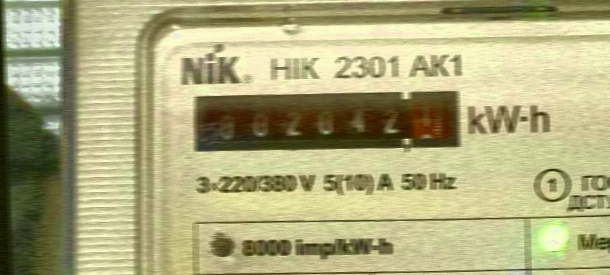0: (217, 110, 236, 141), (251, 108, 269, 140), (316, 106, 335, 136)
1: (418, 98, 433, 129)
2: (284, 108, 303, 137), (382, 105, 400, 134)
4: (349, 103, 368, 135)
screen: (189, 83, 466, 164)
